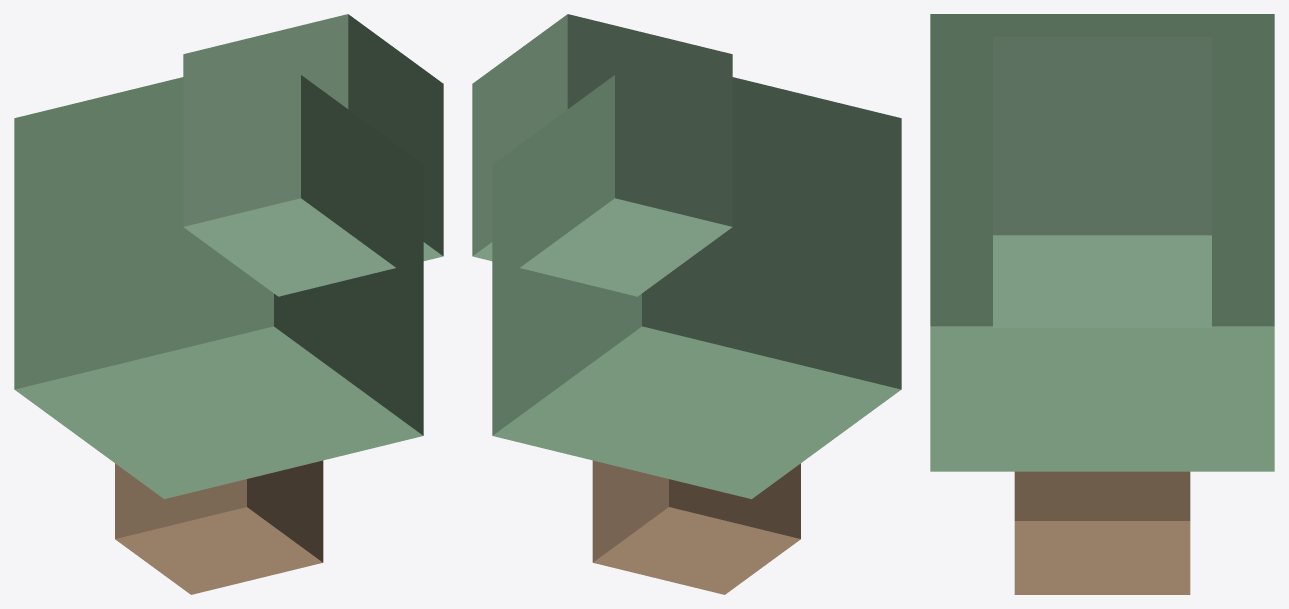
The model's file is plant_ficus.gltf.
3 renders of one model, left to right at view 1: azimuth 30°, elevation 25°; view 2: azimuth 150°, elevation 25°; view 3: azimuth 270°, elevation 25°, orthographic. The views are drawn at different scales.
Parts seen in each view (by area): view 1: plant_ficus; view 2: plant_ficus; view 3: plant_ficus.
Part boxes in pixels (x1=…): plant_ficus: x1=14, y1=14, x2=443, y2=594; plant_ficus: x1=472, y1=14, x2=901, y2=594; plant_ficus: x1=930, y1=14, x2=1274, y2=594.
Size of the model in its own units: 0.65 by 0.93 by 0.55.
